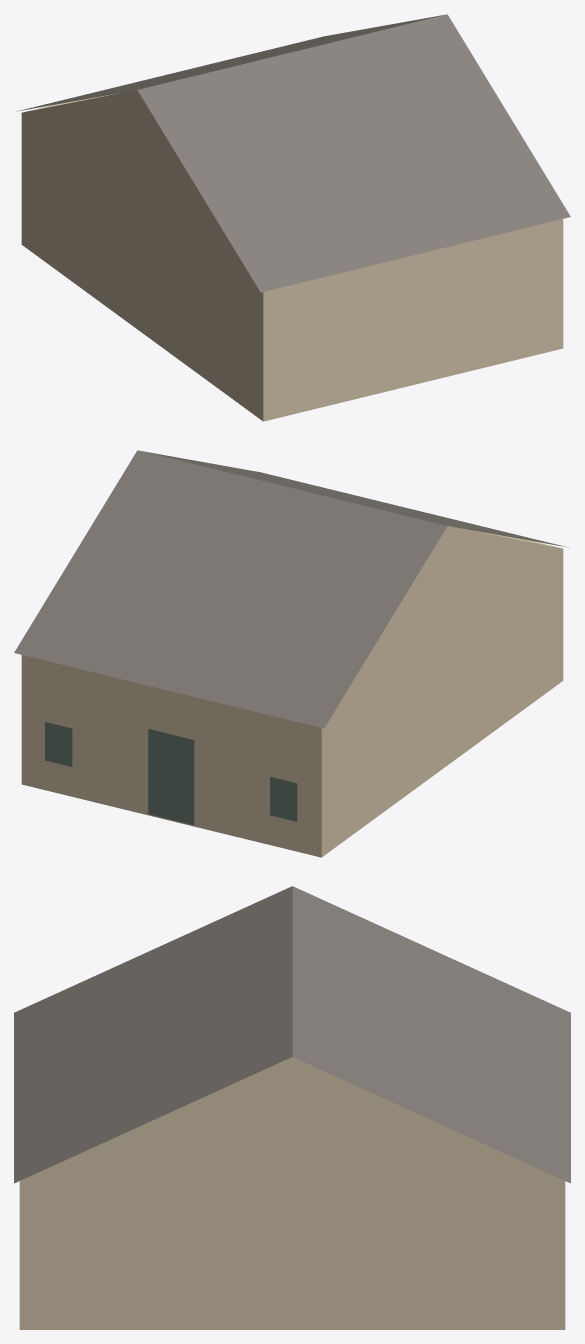
File: recon_1835_south_f1_038__recommended_1835.glb
The picture shows the model from 3 angles, top to bottom: view 1: azimuth 30°, elevation 25°; view 2: azimuth 150°, elevation 25°; view 3: azimuth 270°, elevation 25°; orthographic projection. The views are drawn at different scales.
Visible parts, largest first — view 1: recon_1835_south_f1_038__recommended_1835; view 2: recon_1835_south_f1_038__recommended_1835; view 3: recon_1835_south_f1_038__recommended_1835.
Part boxes in pixels (x1,y1,x2,y2): recon_1835_south_f1_038__recommended_1835: (16,14,570,421); recon_1835_south_f1_038__recommended_1835: (14,450,568,857); recon_1835_south_f1_038__recommended_1835: (14,886,570,1329).
Size of the model in its own units: 8.4 by 6.33 by 11.58.
